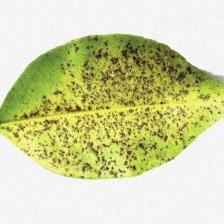canker: (52, 60, 170, 152)
